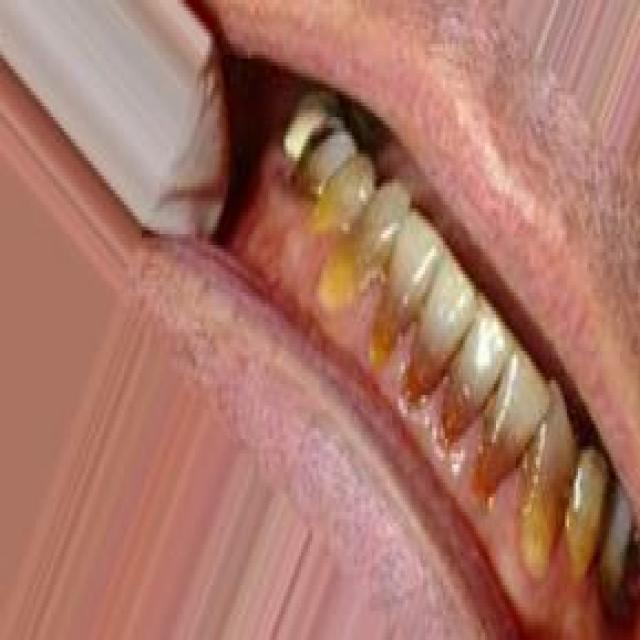caries: (296, 112, 341, 165)
